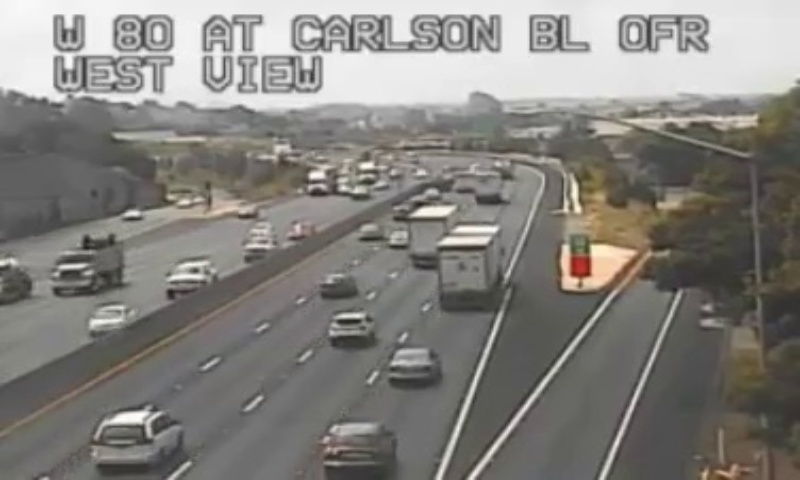car: (89, 409, 182, 467), (323, 422, 393, 472), (387, 346, 438, 382), (329, 312, 374, 342), (317, 274, 355, 295)
truck: (436, 221, 500, 306), (408, 205, 457, 265)
